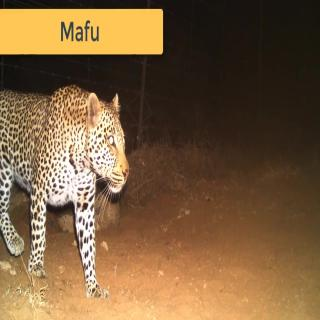Leopard: (0, 84, 130, 300)
